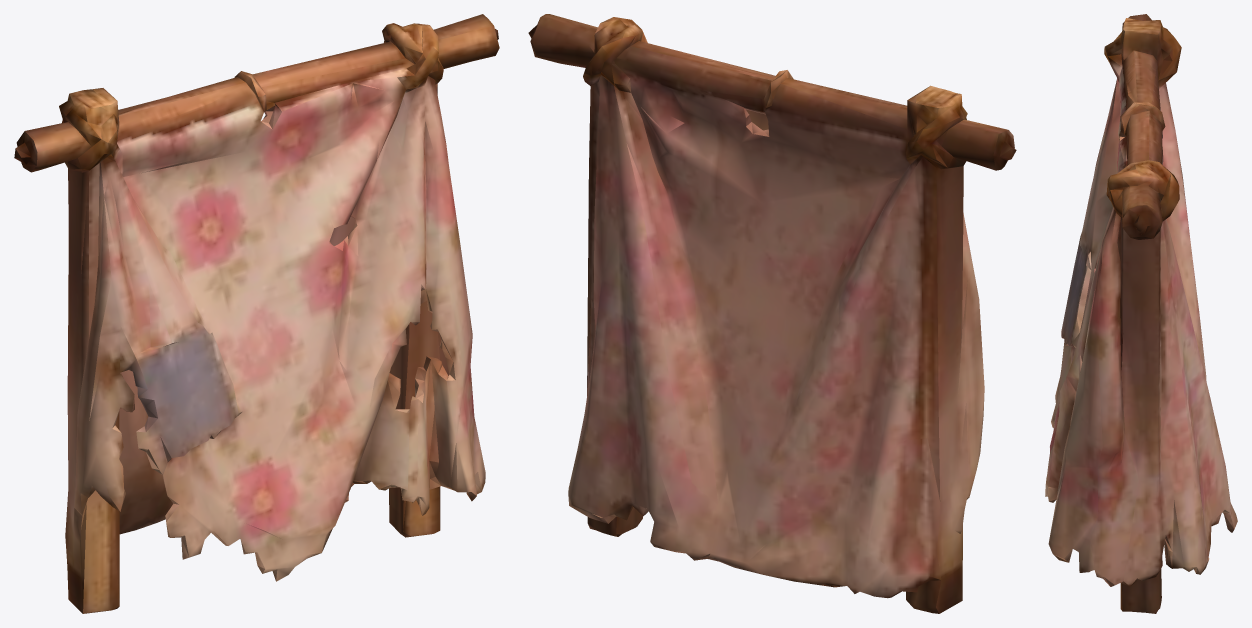
The model's file is misc08.glb.
3 views of the same model, side by side, from view 1: azimuth 30°, elevation 25°; view 2: azimuth 150°, elevation 25°; view 3: azimuth 270°, elevation 25° (orthographic). The views are drawn at different scales.
Bounding box in the file's own units: 0.2512 × 0.2542 × 0.0995.
Materials: 1 (1 with a texture image).
